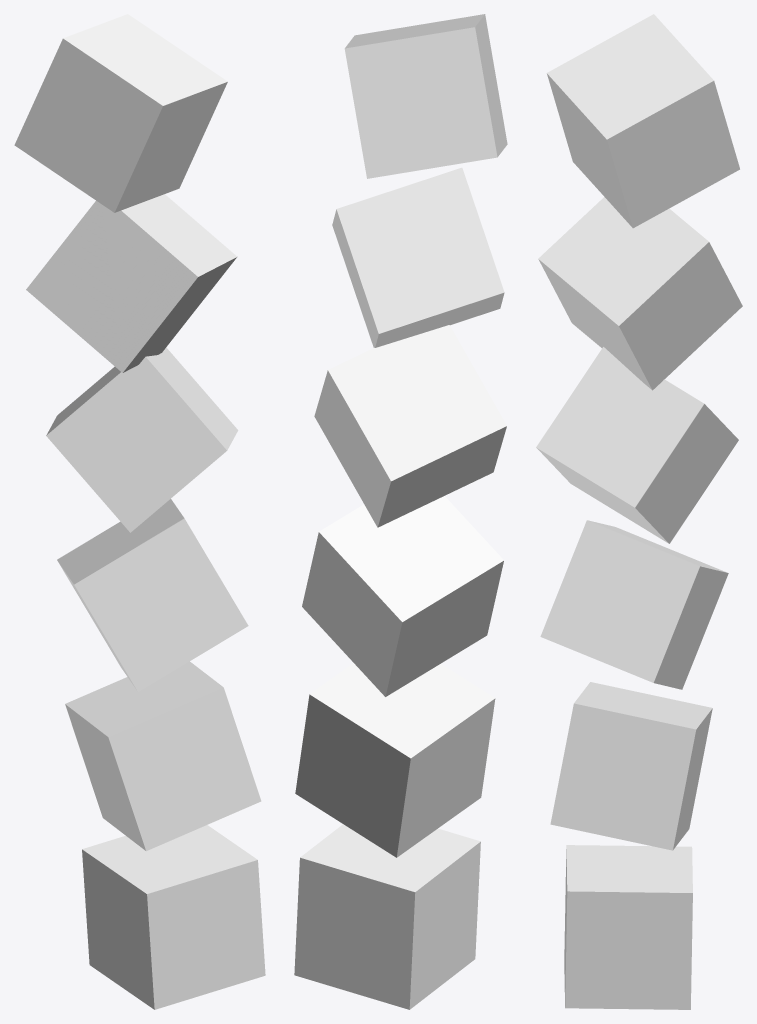
File: cubeStack.glb
3 renders of one model, left to right at view 1: azimuth 30°, elevation 25°; view 2: azimuth 150°, elevation 25°; view 3: azimuth 270°, elevation 25°, orthographic. The views are drawn at different scales.
Visible parts, largest first — view 1: Cube; view 2: Cube; view 3: Cube.
Boxes of the visible parts, <box> form: Cube: <box>14,14,265,1009</box>; Cube: <box>294,14,507,1009</box>; Cube: <box>536,14,742,1009</box>.
Bounding box in the file's own units: 1.35 × 6.04 × 1.22.
Materials: 1 (1 with a texture image).
